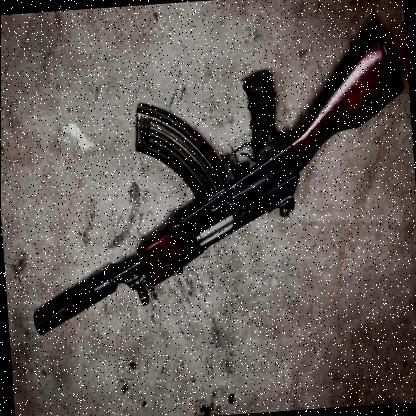rifle: (16, 20, 416, 370)
